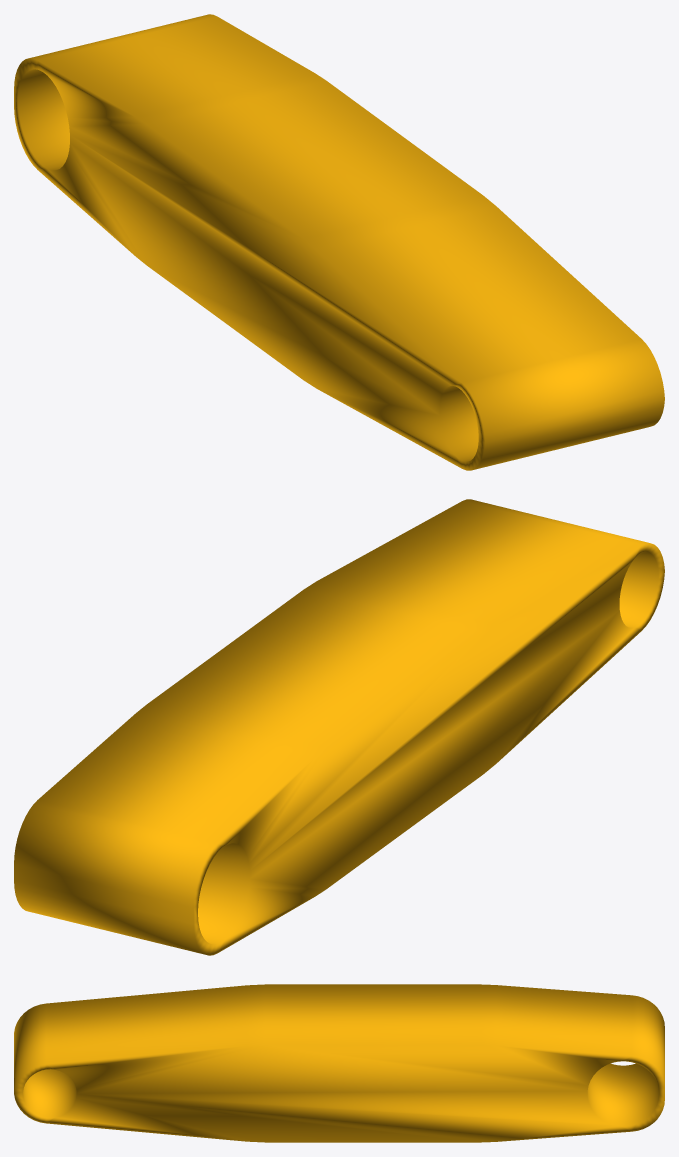
File: upperRod_new.obj
3 renders of one model, top to bottom at view 1: azimuth 30°, elevation 25°; view 2: azimuth 150°, elevation 25°; view 3: azimuth 270°, elevation 25°, orthographic. The views are drawn at different scales.
Visible parts, largest first — view 1: upperRod; view 2: upperRod; view 3: upperRod.
Part boxes in pixels (x1,y1,x2,y2): upperRod: [14, 14, 664, 470]; upperRod: [14, 499, 664, 955]; upperRod: [14, 984, 664, 1142].
Size of the model in its own units: 0.08 by 0.06 by 0.3633.
